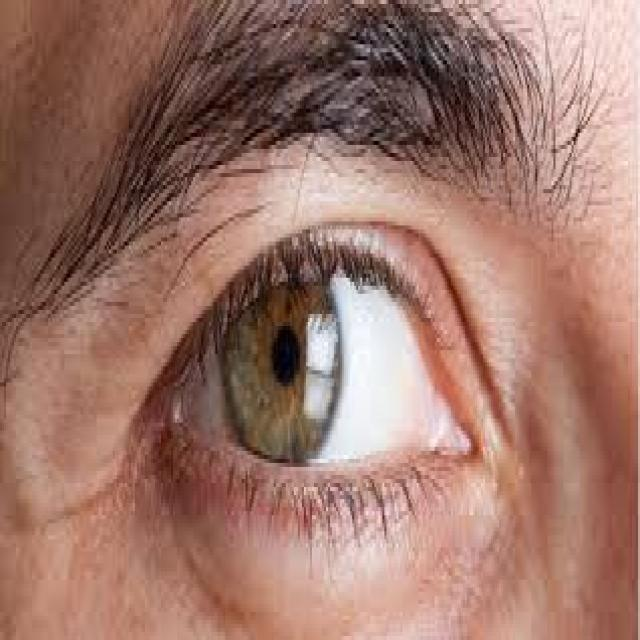Normal: (86, 198, 584, 636)
